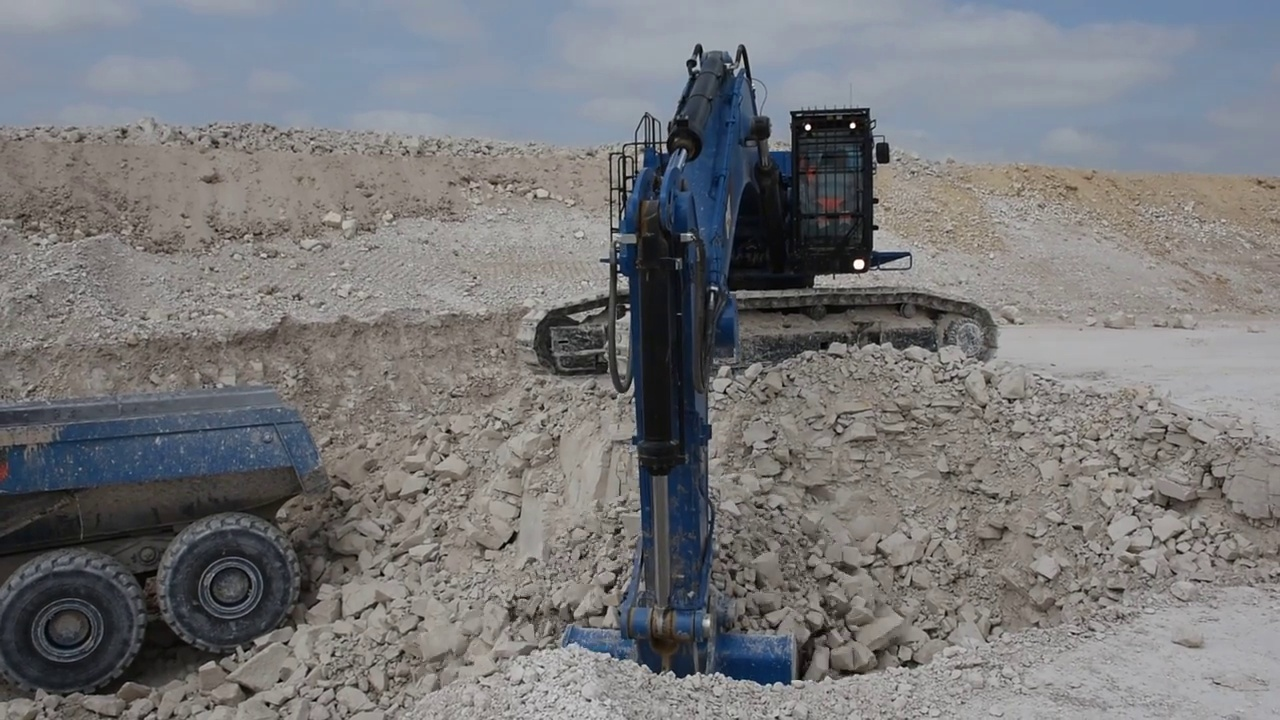dumper: (4, 386, 326, 698)
excavator: (517, 45, 1001, 686)
